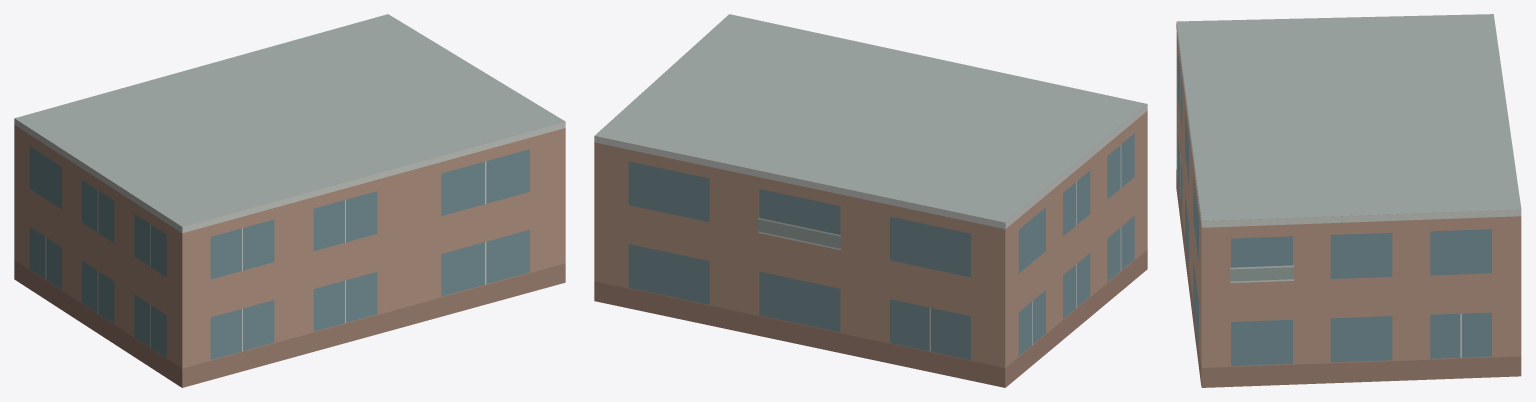
The model's file is survey-upis-32684576.glb.
3 views of the same model, side by side, from view 1: azimuth 30°, elevation 25°; view 2: azimuth 150°, elevation 25°; view 3: azimuth 270°, elevation 25° (orthographic). The views are drawn at different scales.
Parts seen in each view (by area): view 1: survey-upis-32684576.tmp; view 2: survey-upis-32684576.tmp; view 3: survey-upis-32684576.tmp.
Part boxes in pixels (left/top/right/bottom): survey-upis-32684576.tmp: left=14, top=14, right=565, bottom=387; survey-upis-32684576.tmp: left=594, top=14, right=1147, bottom=387; survey-upis-32684576.tmp: left=1176, top=14, right=1521, bottom=387.
Size of the model in its own units: 16.27 by 6.1 by 11.45.
